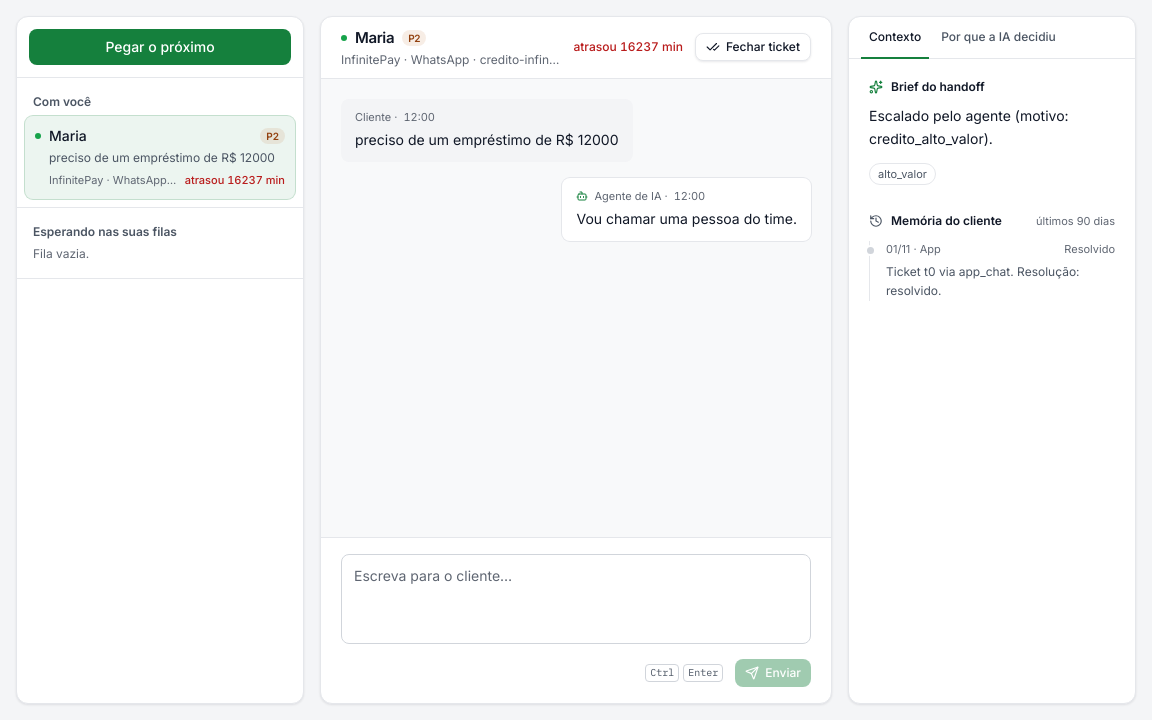
Test: painel do analista › fecha só com uma resolução escolhida e volta para a fila
The width and height of the screenshot is (1152, 720).
Click the button "Fechar ticket" at x=753, y=47, box x1=695 y1=33 x2=811 y2=61
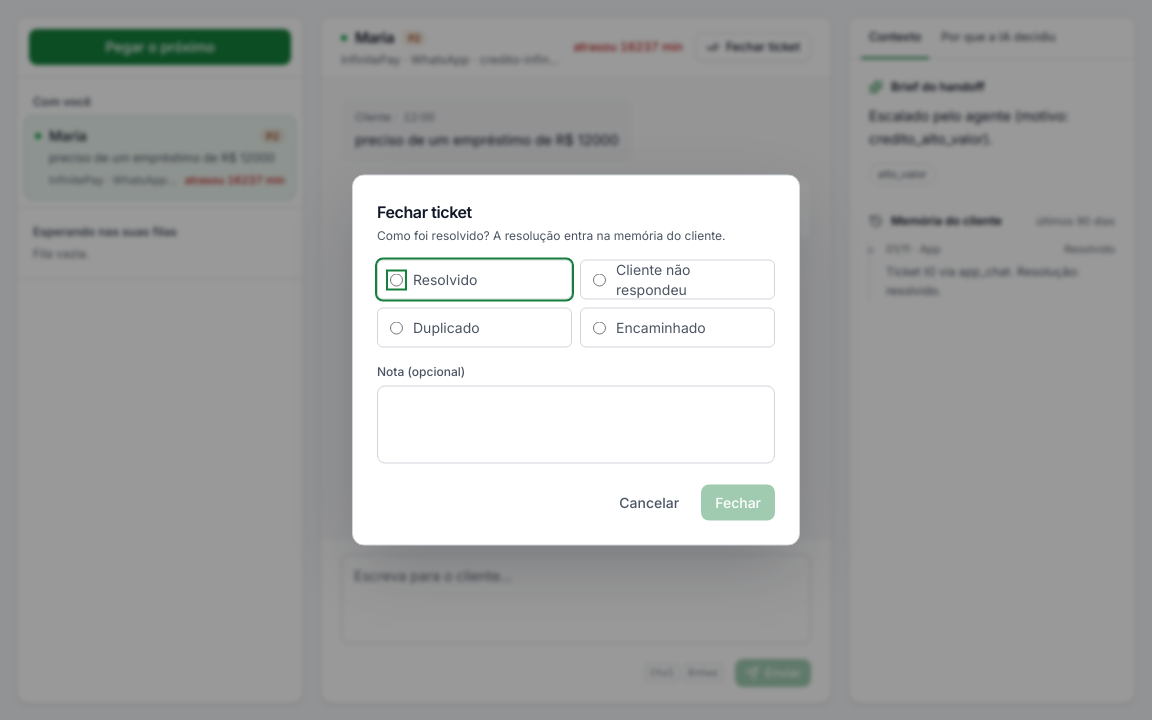
Now the button "Fechar" is disabled, box x1=701 y1=484 x2=775 y2=520
Click the radio button labelled "Resolvido" at x=396, y=280, box x1=390 y1=273 x2=403 y2=286
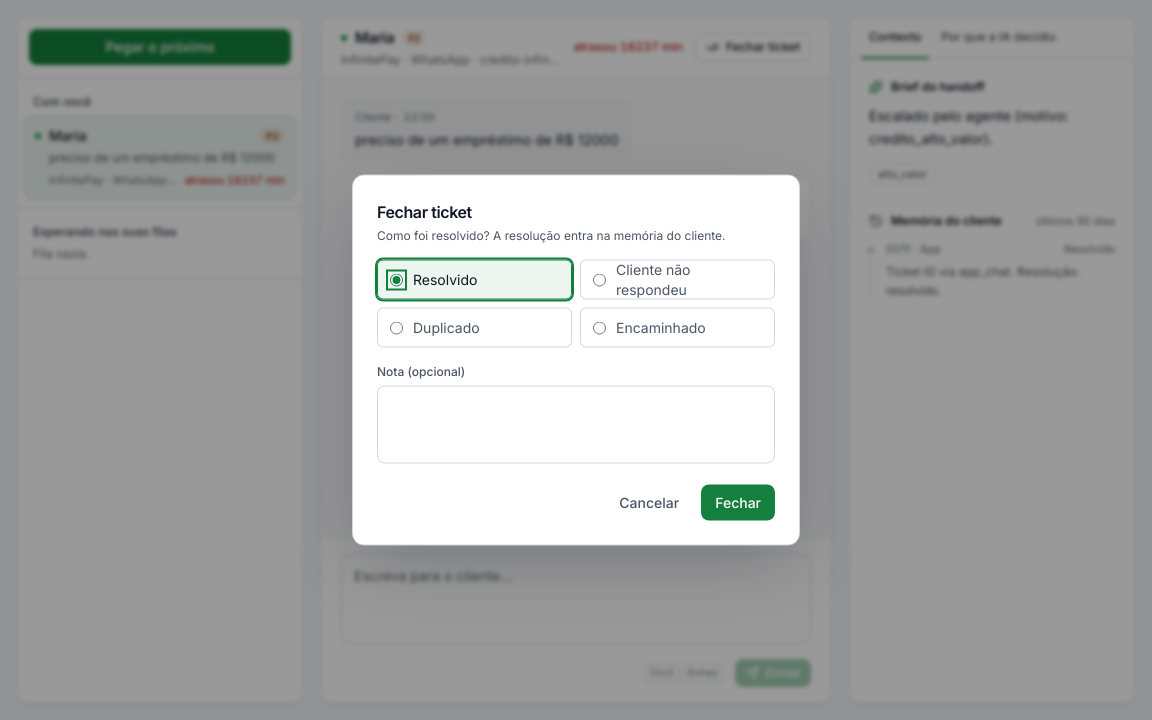
Type "Limite liberado." into the text box labelled "Nota (opcional)" at x=576, y=424, box x1=377 y1=386 x2=775 y2=464
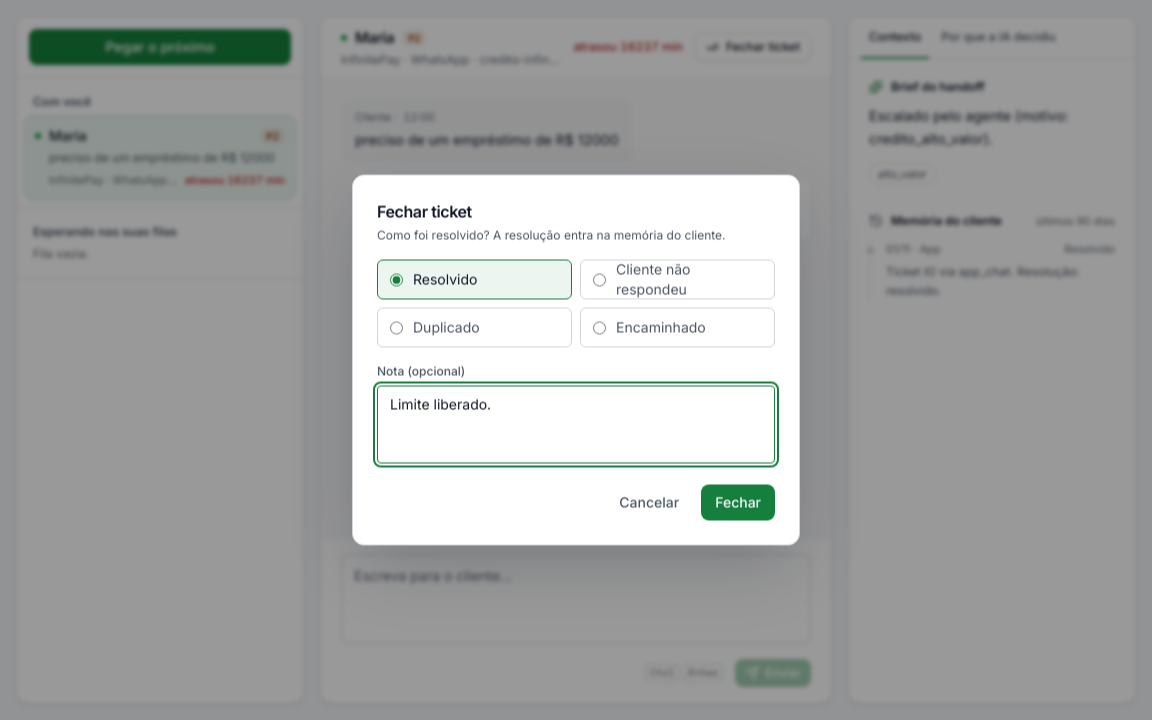
Click the button "Fechar" at x=738, y=502, box x1=701 y1=484 x2=775 y2=520
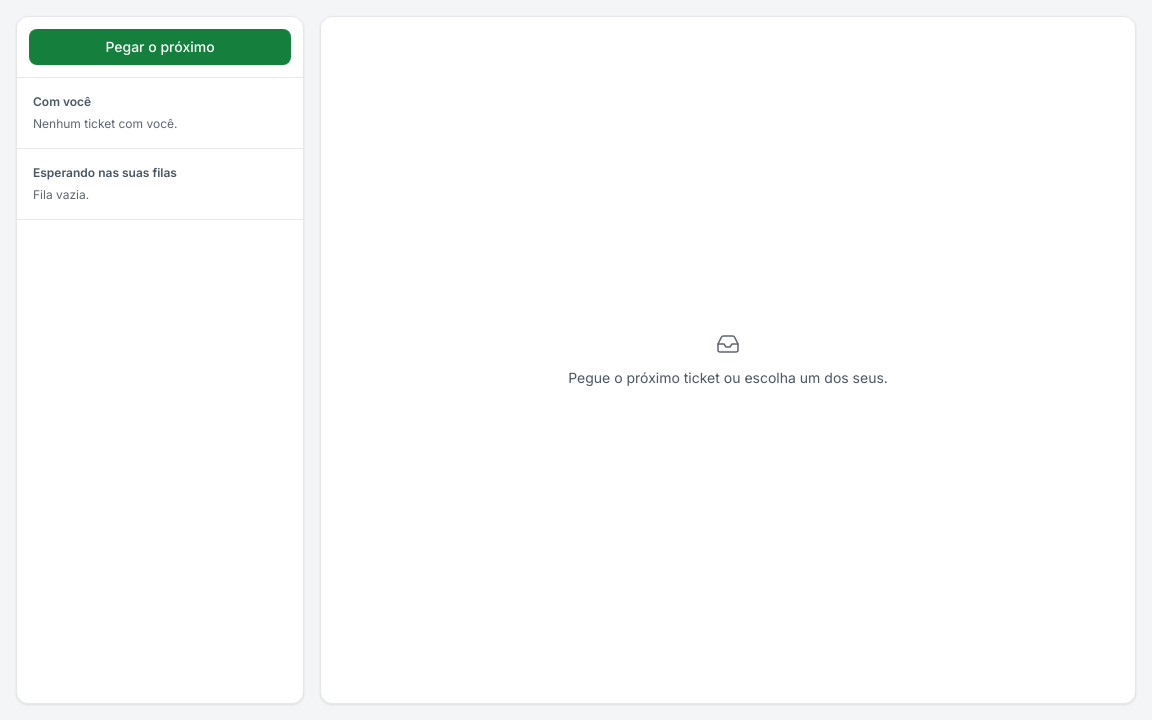
Now the text "Nenhum ticket com você." is shown, box x1=33 y1=116 x2=178 y2=131
